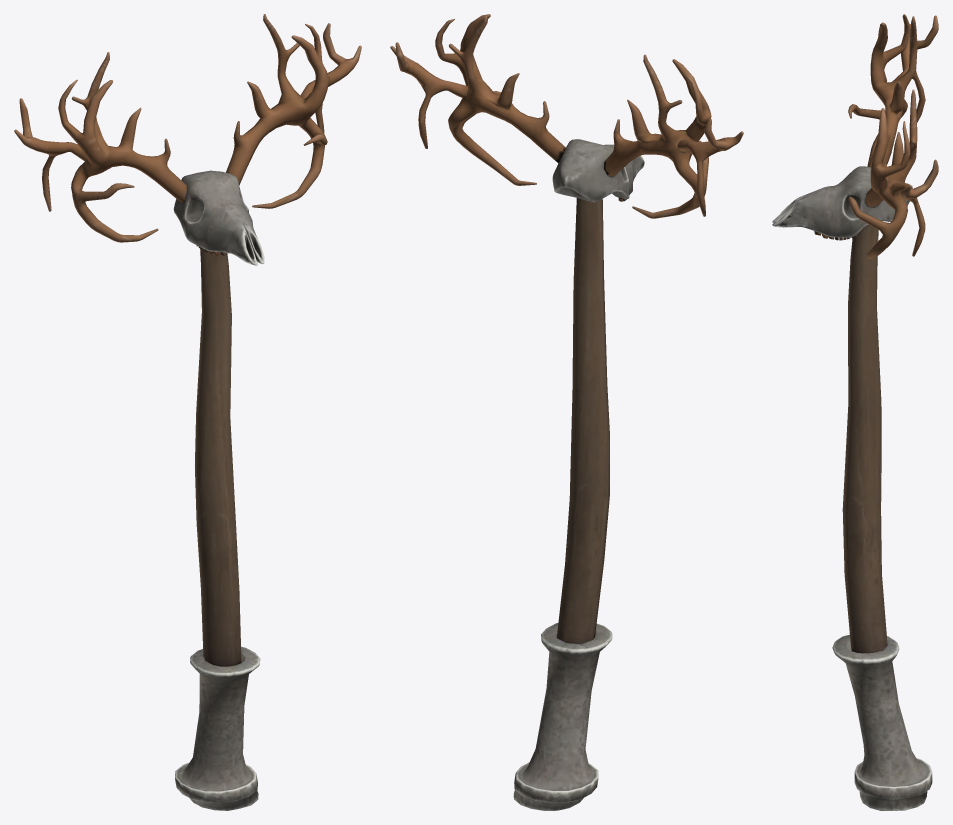
Rendered from antler_staff.glb.
The picture shows the model from 3 angles, left to right: view 1: azimuth 30°, elevation 25°; view 2: azimuth 150°, elevation 25°; view 3: azimuth 270°, elevation 25°; orthographic projection. The views are drawn at different scales.
Visible parts, largest first — view 1: antler_staff; view 2: antler_staff; view 3: antler_staff.
Part boxes in pixels (x1=…): antler_staff: x1=14, y1=14, x2=361, y2=810; antler_staff: x1=390, y1=14, x2=743, y2=810; antler_staff: x1=772, y1=14, x2=938, y2=810.
Size of the model in its own units: 0.8786 by 1.85 by 0.3805.
1 material, 1 textured.
